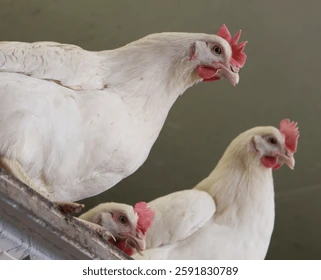Healthy: (172, 14, 257, 99), (229, 108, 306, 194), (81, 193, 158, 260)
